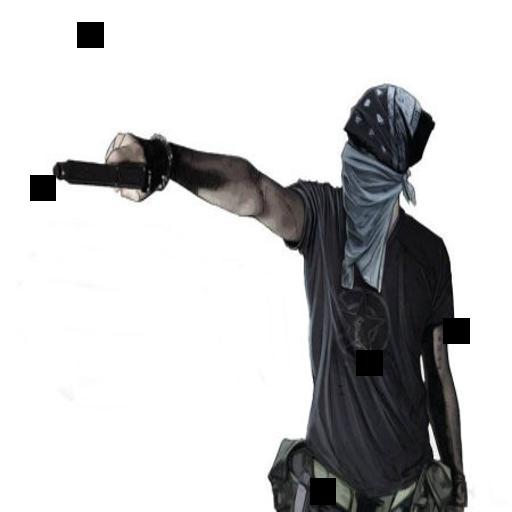Handgun: (50, 156, 152, 189)
